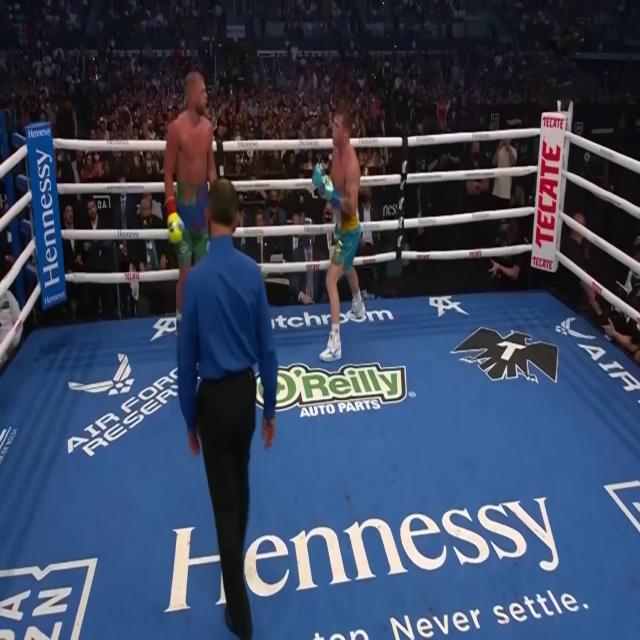boxer_1: (164, 72, 217, 199)
boxer_2: (330, 98, 361, 222), (328, 264, 342, 323)
gloves_1: (167, 210, 184, 243)
gloves_2: (312, 162, 334, 199)
